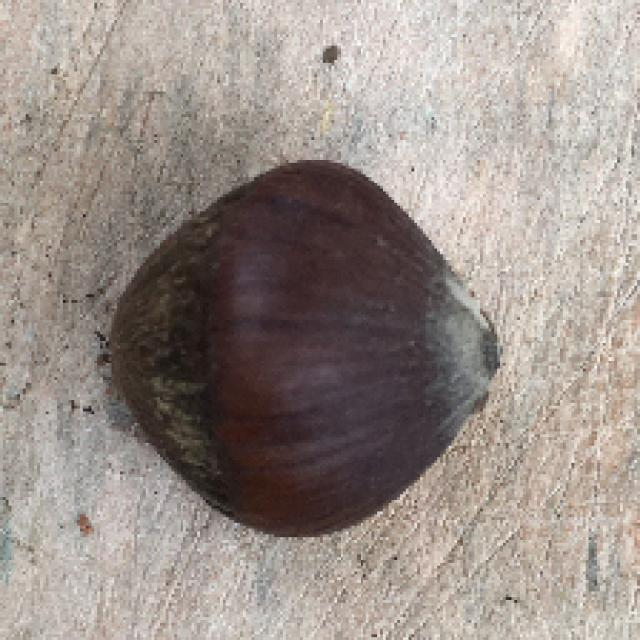damagedHazelnut: (108, 159, 507, 548)
